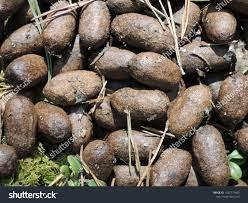Elk: (4, 7, 222, 158)
